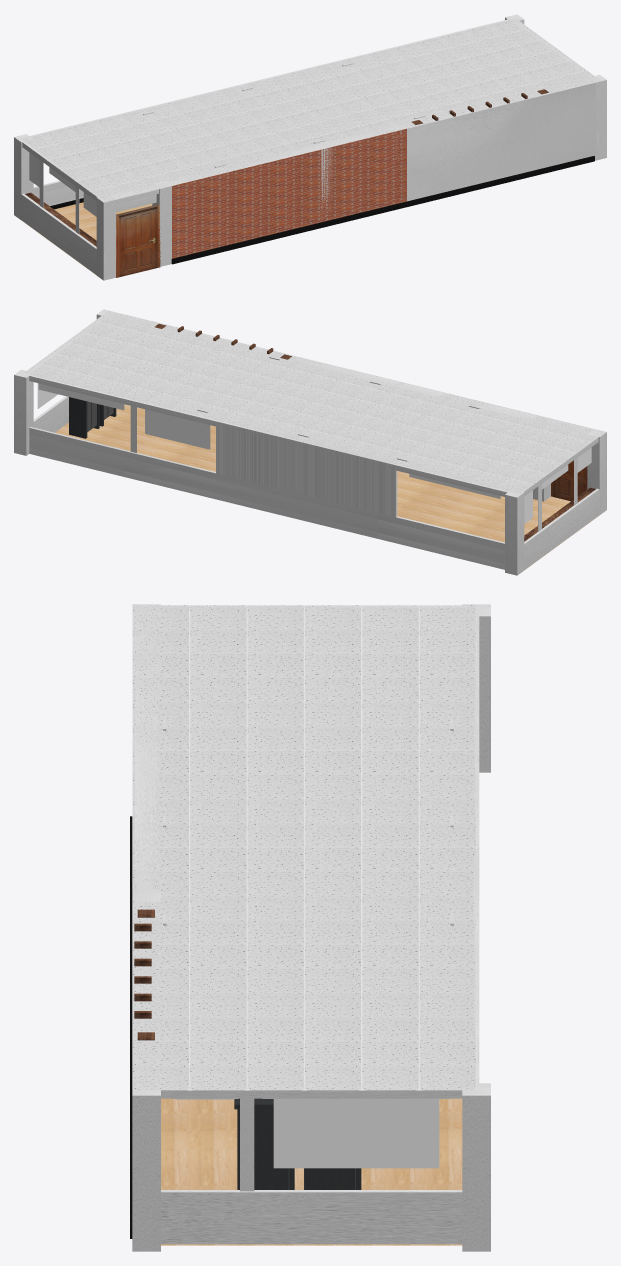
File: hello.glb
3 renders of one model, top to bottom at view 1: azimuth 30°, elevation 25°; view 2: azimuth 150°, elevation 25°; view 3: azimuth 270°, elevation 25°, orthographic. The views are drawn at different scales.
Parts seen in each view (by area): view 1: Plane.001, Plane.004, Plane.005, Plane.009, Cube.043, Cube.010, Cube.002, Cube.003, Cube.005, Cube.011, Cube.007, Cube.015 (+7 smaller); view 2: Plane.001, Cube, Plane, Cube.011, Cube.010, Plane.014, Cube.005, Cube.006, Cube.002, Cube.015, Plane.009, Cube.016 (+4 smaller); view 3: Plane.001, Cube.016, Plane, Plane.016, Cube.015, Cube.006, Cube.007, Cube.017, Cube.011, Cube.005, Cube.052, Cube.018 (+3 smaller).
Boxes of the visible parts, x1=… form: Plane.001: x1=19, y1=18, x2=601, y2=201; Plane.004: x1=172, y1=128, x2=406, y2=258; Plane.005: x1=407, y1=82, x2=595, y2=201; Plane.009: x1=116, y1=204, x2=160, y2=277; Cube.043: x1=171, y1=156, x2=594, y2=264; Cube.010: x1=21, y1=193, x2=106, y2=280; Cube.002: x1=96, y1=197, x2=115, y2=280; Cube.003: x1=152, y1=181, x2=171, y2=266; Cube.005: x1=14, y1=134, x2=33, y2=219; Cube.011: x1=17, y1=18, x2=514, y2=139; Cube.007: x1=594, y1=74, x2=606, y2=160; Cube.015: x1=166, y1=123, x2=406, y2=185; Plane.001: x1=23, y1=310, x2=600, y2=493; Cube: x1=29, y1=420, x2=521, y2=569; Plane: x1=55, y1=404, x2=598, y2=569; Cube.011: x1=23, y1=373, x2=520, y2=498; Cube.010: x1=524, y1=488, x2=599, y2=569; Plane.014: x1=145, y1=409, x2=210, y2=449; Cube.005: x1=505, y1=489, x2=524, y2=575; Cube.006: x1=14, y1=369, x2=33, y2=455; Cube.002: x1=587, y1=429, x2=606, y2=514; Cube.015: x1=297, y1=358, x2=536, y2=419; Plane.009: x1=551, y1=460, x2=587, y2=501; Cube.016: x1=33, y1=396, x2=68, y2=432; Plane.001: x1=132, y1=605, x2=476, y2=1090; Cube.016: x1=161, y1=1190, x2=462, y2=1244; Plane: x1=161, y1=1098, x2=462, y2=1245; Plane.016: x1=273, y1=1099, x2=439, y2=1168; Cube.015: x1=135, y1=671, x2=157, y2=901; Cube.006: x1=462, y1=1083, x2=490, y2=1251; Cube.007: x1=132, y1=1083, x2=160, y2=1251; Cube.017: x1=133, y1=1086, x2=475, y2=1098; Cube.011: x1=473, y1=604, x2=479, y2=1089; Cube.005: x1=462, y1=604, x2=490, y2=772; Cube.052: x1=254, y1=1109, x2=288, y2=1189; Cube.018: x1=240, y1=1098, x2=254, y2=1191.
Size of the model in its own units: 20.25 by 3.19 by 6.29.
15 materials, 9 textured.
